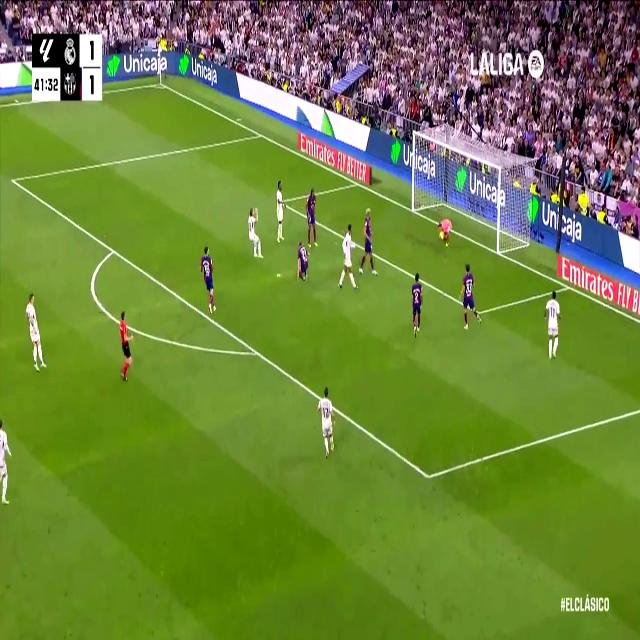bigarea_bottom_inner: (421, 459, 435, 493)
bigarea_top_inner: (8, 168, 18, 190)
bigarea_top_outter: (256, 127, 264, 141)
bottom_arc_area_intersection: (250, 341, 262, 364)
corner: (156, 77, 166, 89)
top_arc_area_intersection: (108, 240, 118, 260)
